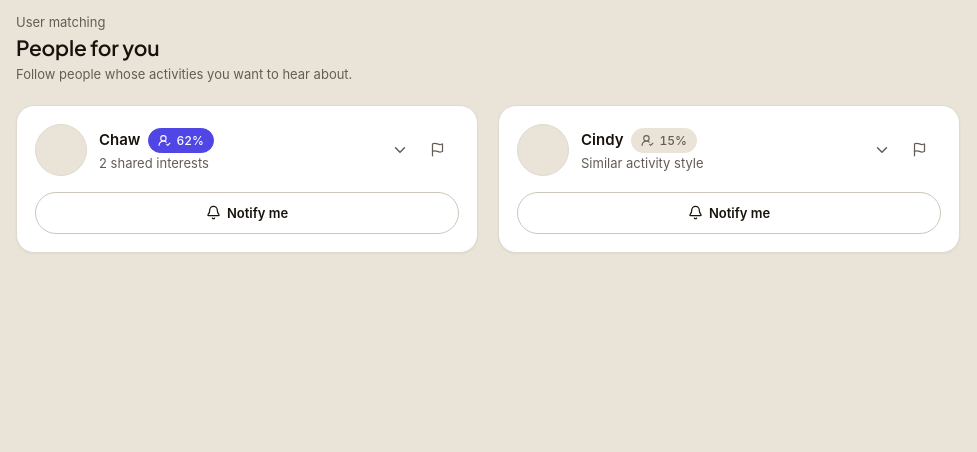
Test: pressing the person › leaves everybody else alone — two people can be compared at once
Click the button "Chaw 62% 2 shared interests" at [61, 150], box [35,124,409,176]
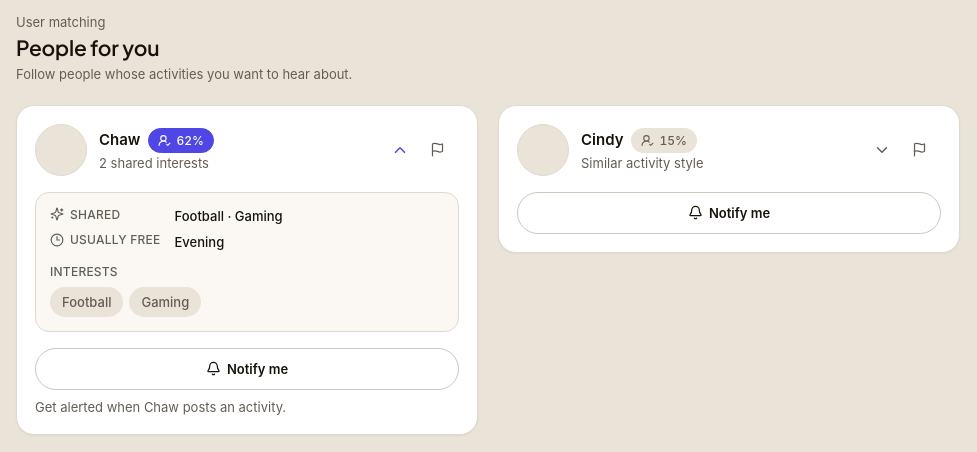
Click the button "Cindy 15% Similar activity style" at [543, 150], box [517,124,891,176]
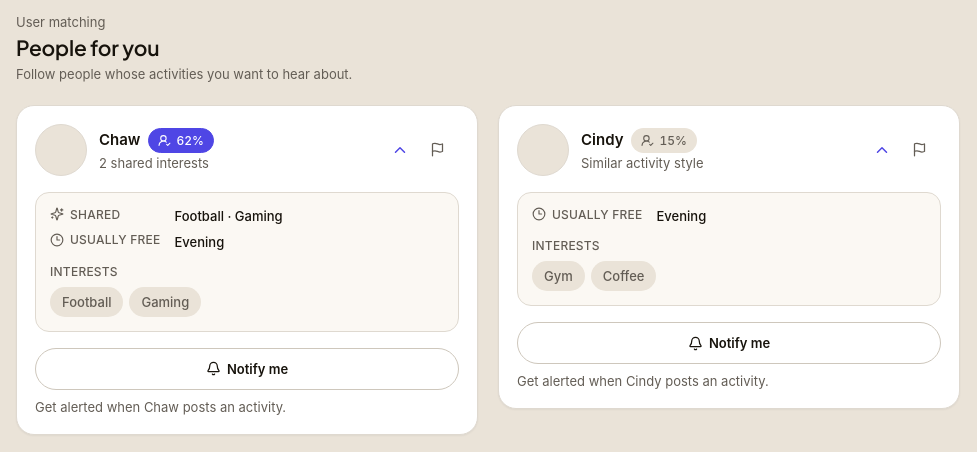
Check: the text "Usually free" below "Football · Gaming" is shown, box [70,232,160,247]
Check: the 1st text "Usually free" is shown, box [532,207,642,222]
